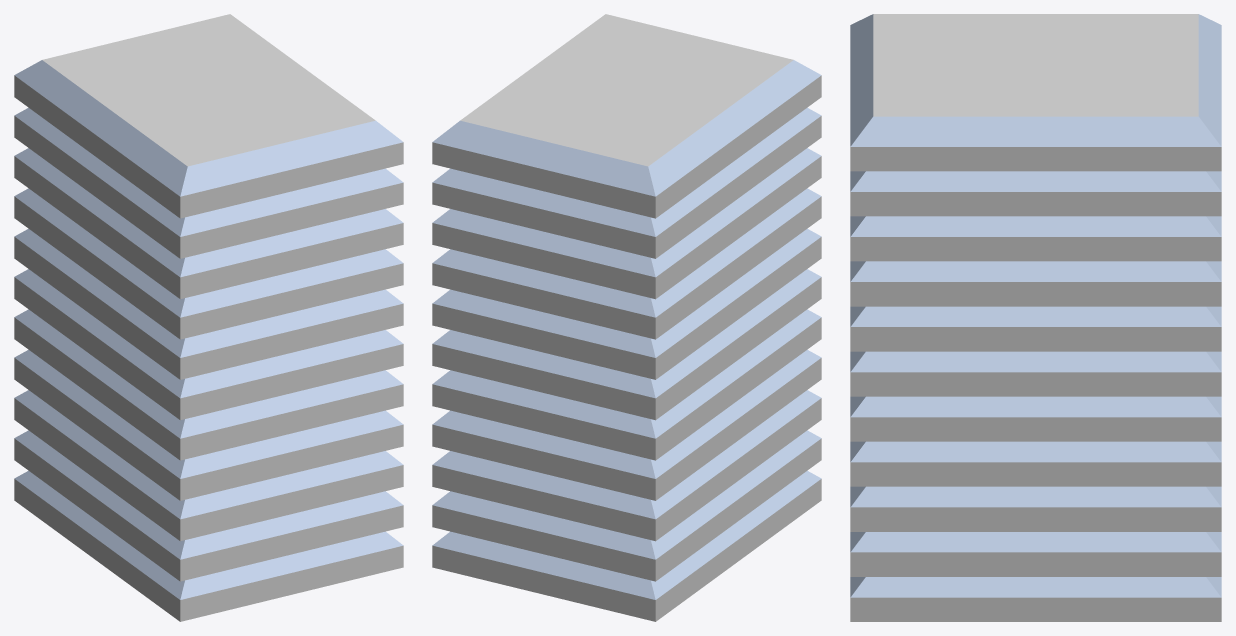
File: Hochhaus_mittel.fbx
3 renders of one model, left to right at view 1: azimuth 30°, elevation 25°; view 2: azimuth 150°, elevation 25°; view 3: azimuth 270°, elevation 25°, orthographic. The views are drawn at different scales.
Parts seen in each view (by area): view 1: Haus_mittel; view 2: Haus_mittel; view 3: Haus_mittel.
Boxes of the visible parts, left/top/right/bottom form: Haus_mittel: left=14, top=14, right=403, bottom=621; Haus_mittel: left=432, top=14, right=821, bottom=621; Haus_mittel: left=850, top=14, right=1221, bottom=621.
Bounding box in the file's own units: 1870 × 3547 × 2406.
